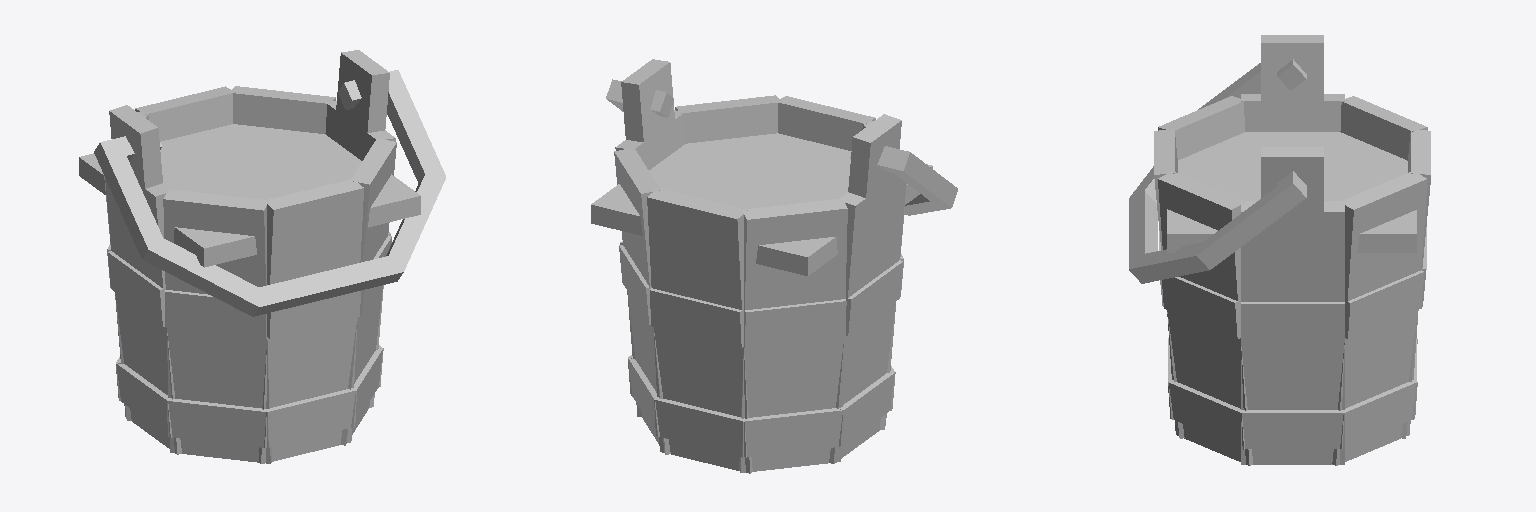
File: 790_water_bucket.obj
3 renders of one model, left to right at view 1: azimuth 30°, elevation 25°; view 2: azimuth 150°, elevation 25°; view 3: azimuth 270°, elevation 25°, orthographic.
Visible parts, largest first — view 1: water, side1, side2, Ring2, side3, Ring1, side8, Ring3, handle1, side6, handle2, handle4 (+7 smaller); view 2: side5, side4, water, side3, Ring4, Ring5, side6, Ring3, side8, side1, side7bump, side3bump (+3 smaller); view 3: side7, side6, water, side8, Ring7, Ring6, Ring8, side3bump, handle5, side3, side4, side2 (+7 smaller).
Boxes of the visible parts, <box> form: water: <box>79,124,420,267</box>; side1: <box>258,179,363,463</box>; side2: <box>163,189,271,463</box>; Ring2: <box>165,290,268,447</box>; side3: <box>105,178,181,454</box>; Ring1: <box>263,291,360,448</box>; side8: <box>340,138,396,445</box>; Ring3: <box>108,251,172,437</box>; handle1: <box>251,256,403,316</box>; side6: <box>230,86,335,133</box>; handle2: <box>142,235,266,316</box>; handle4: <box>94,138,165,258</box>; side5: <box>647,188,752,473</box>; side4: <box>739,198,847,472</box>; water: <box>591,133,932,275</box>; side3: <box>829,176,905,463</box>; Ring4: <box>742,299,846,457</box>; Ring5: <box>650,288,746,457</box>; side6: <box>614,148,670,454</box>; Ring3: <box>839,260,903,446</box>; side8: <box>675,95,780,143</box>; side1: <box>776,96,875,150</box>; side7bump: <box>621,59,674,141</box>; side3bump: <box>848,114,901,197</box>; side7: <box>1241,201,1344,464</box>; side6: <box>1332,171,1427,465</box>; water: <box>1167,132,1416,252</box>; side8: <box>1158,171,1252,465</box>; Ring7: <box>1241,302,1344,448</box>; Ring6: <box>1340,270,1423,449</box>; Ring8: <box>1162,277,1244,449</box>; side3bump: <box>1261,35,1323,100</box>; handle5: <box>1197,175,1306,269</box>; side3: <box>1241,94,1344,131</box>; side4: <box>1339,96,1427,160</box>; side2: <box>1158,96,1245,159</box>.
Size of the model in its own units: 1.03 by 1.07 by 0.9073.